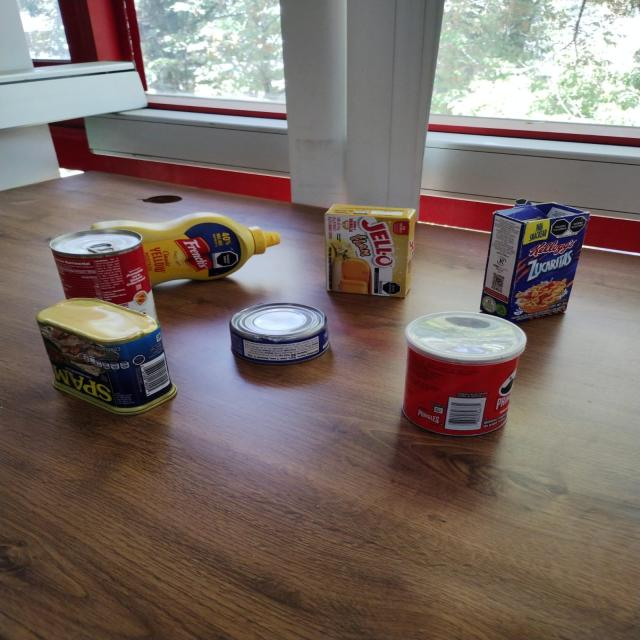can of cream: (48, 228, 154, 325)
can of tuna: (229, 302, 329, 366)
cereal: (474, 199, 583, 322)
chips: (404, 312, 526, 435)
jelly: (322, 204, 417, 300)
mustard: (90, 214, 280, 284)
spam: (34, 297, 174, 415)
